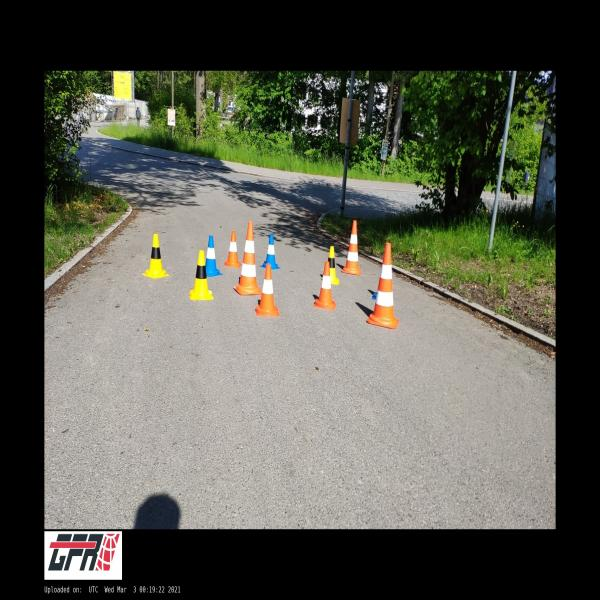blue_cone: (206, 235, 223, 277), (262, 234, 280, 270)
large_orange_cone: (366, 243, 398, 329), (233, 221, 262, 295), (341, 220, 362, 276)
orange_cone: (255, 264, 280, 317), (314, 261, 336, 310), (223, 231, 241, 267)
yellow_cone: (189, 250, 214, 300), (144, 234, 169, 276), (328, 246, 339, 285)
